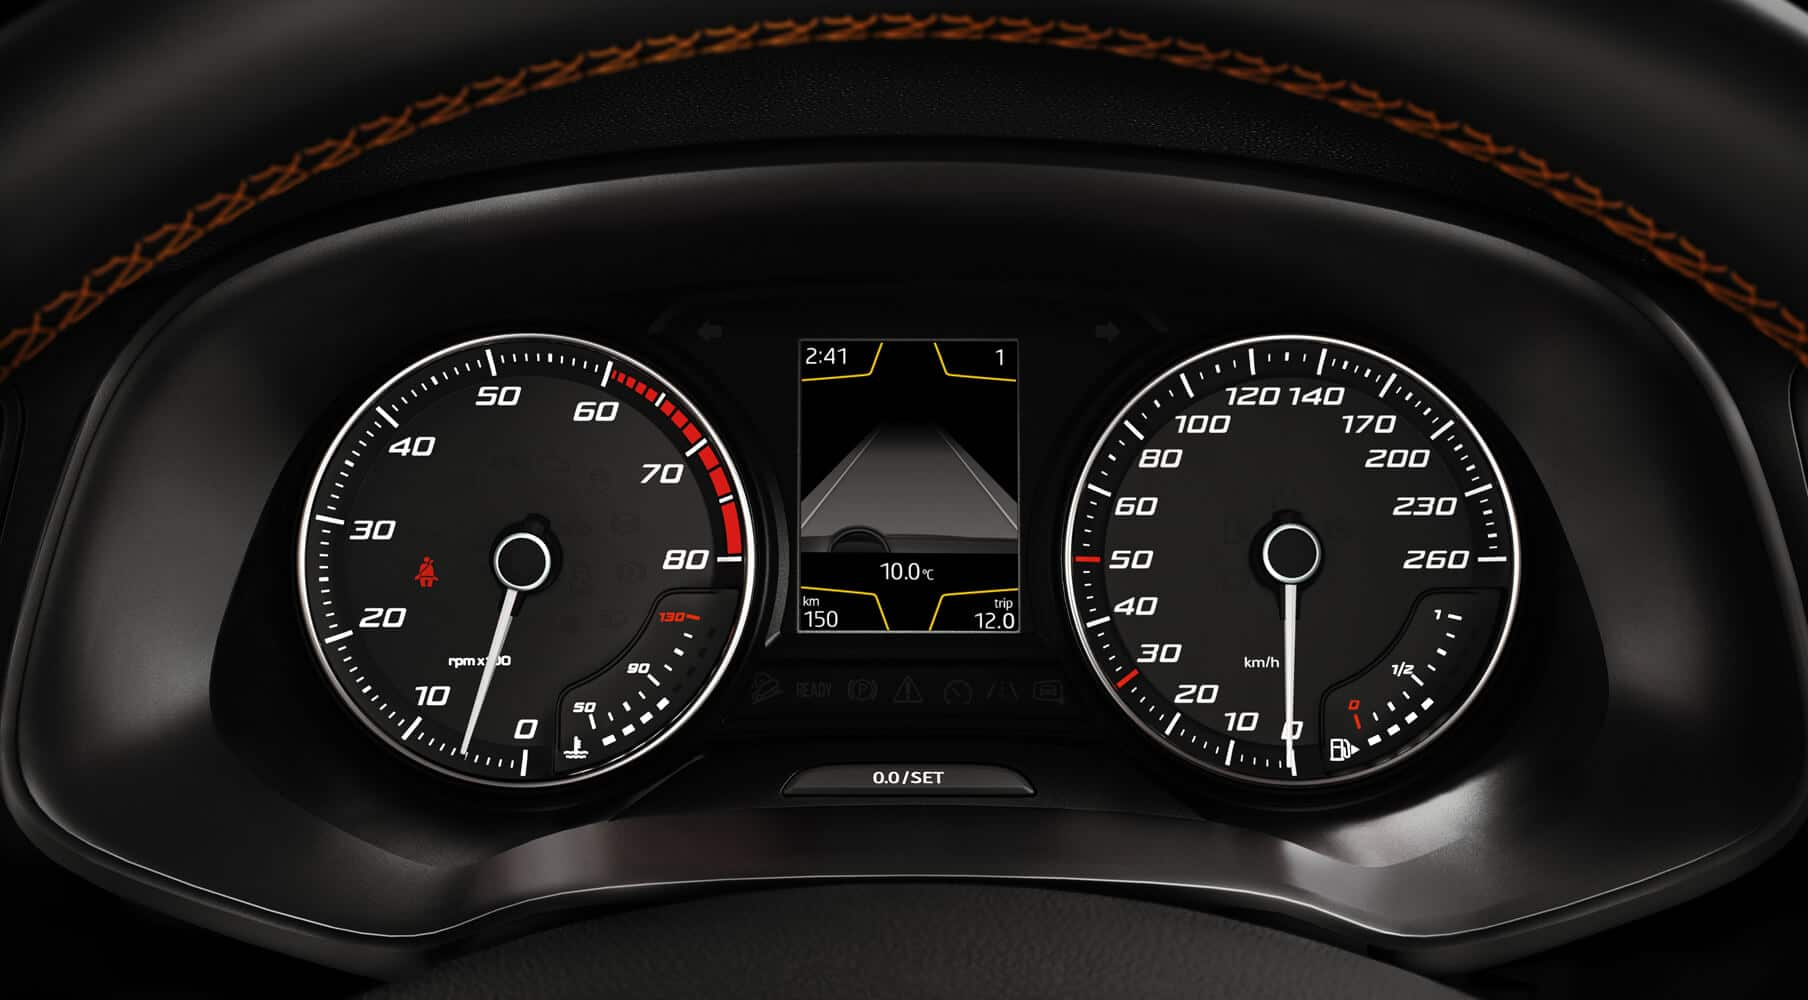Seatbelt_warning: (407, 553, 445, 604)
